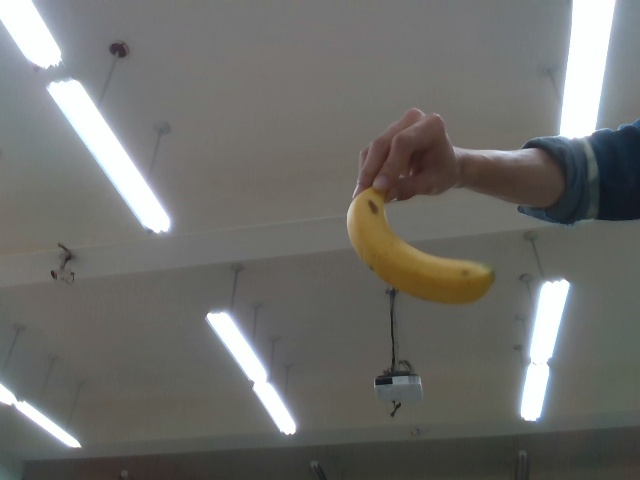banana: (344, 185, 493, 308)
